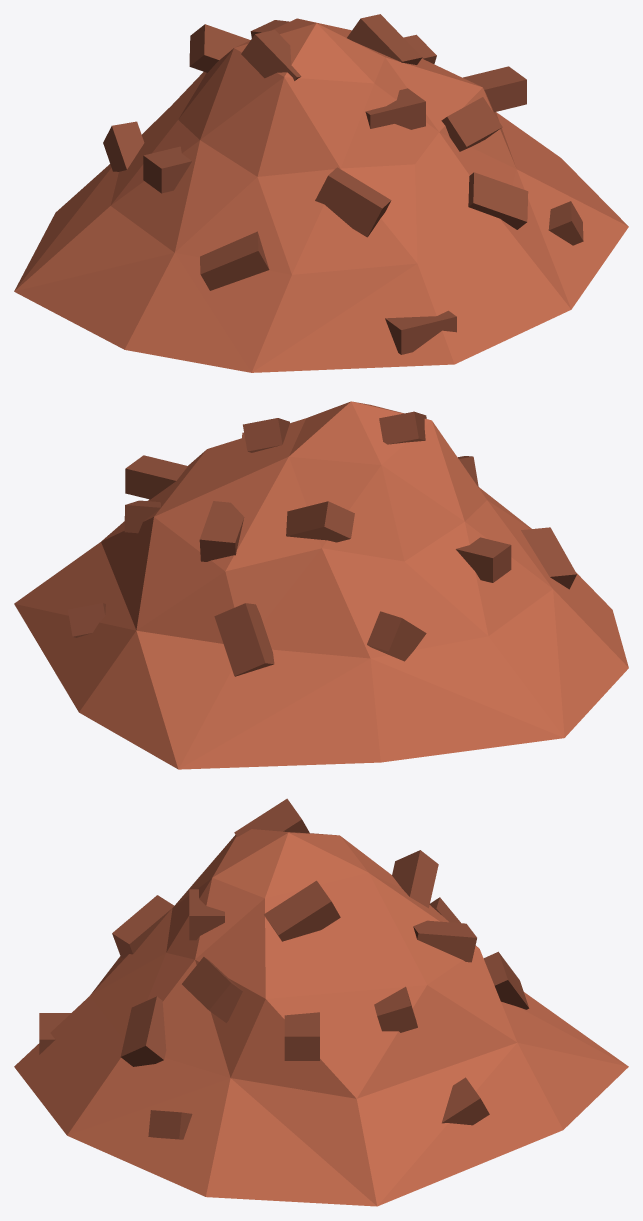
File: PileOfBricks.fbx
The picture shows the model from 3 angles, top to bottom: view 1: azimuth 30°, elevation 25°; view 2: azimuth 150°, elevation 25°; view 3: azimuth 270°, elevation 25°; orthographic projection. The views are drawn at different scales.
Visible parts, largest first — view 1: Icosphere; view 2: Icosphere; view 3: Icosphere.
Boxes of the visible parts, x1=… form: Icosphere: x1=14, y1=14, x2=628, y2=372; Icosphere: x1=14, y1=401, x2=628, y2=769; Icosphere: x1=14, y1=798, x2=628, y2=1206.
Size of the model in its own units: 1344 by 571 by 1330.
